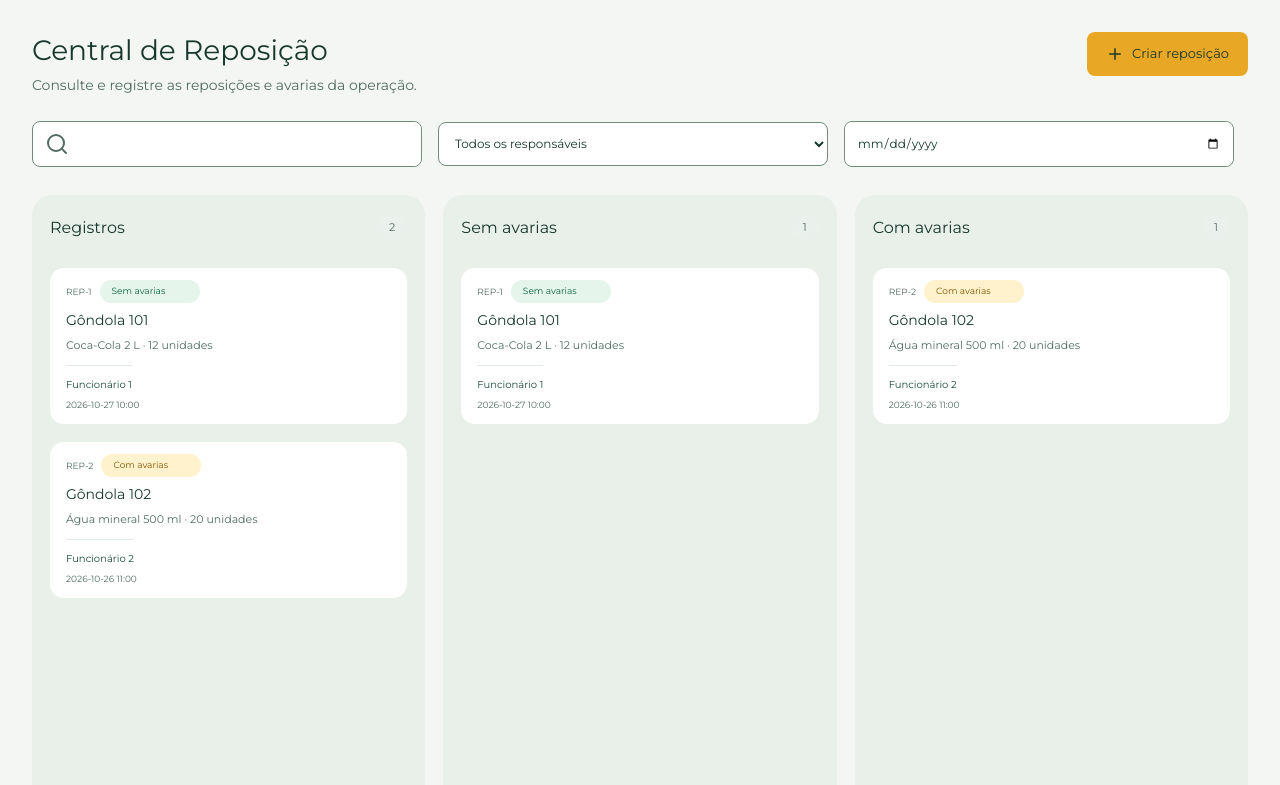
Scenario: shows real records, filters date and does not invent pending tasks
Type "2026-10-26" into the date field named "Data" at coordinates (1039, 144), box [845,122,1233,166]
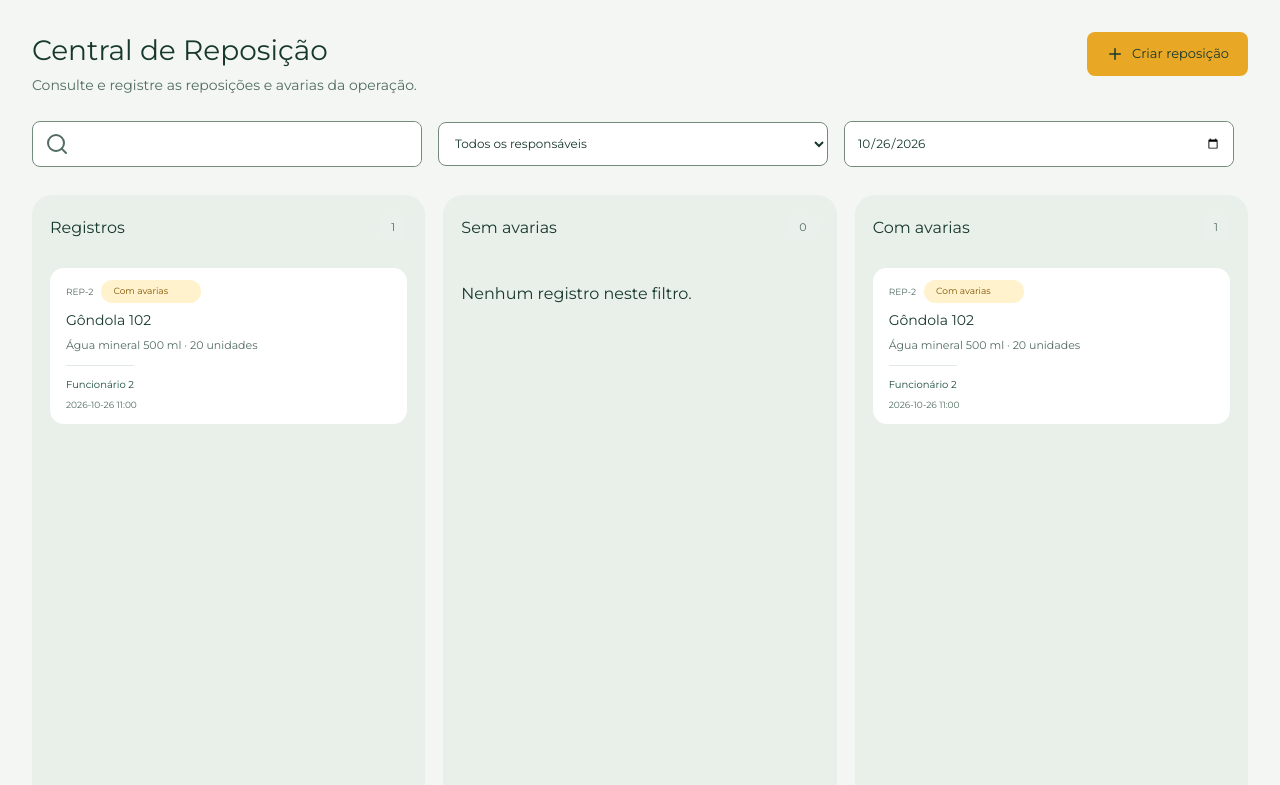
Expected: the 1st text "REP-2" is shown, [66,286,94,297]
Expected: the button "REP-1" is gone
